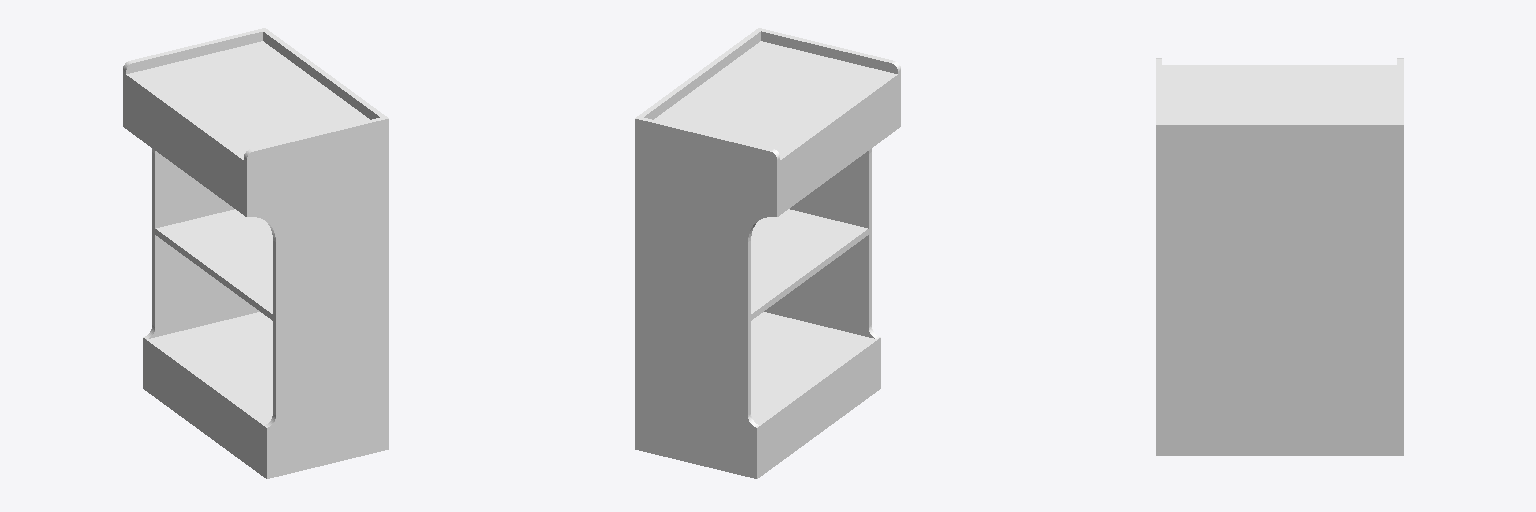
The model's file is lectern.obj.
The picture shows the model from 3 angles: view 1: azimuth 30°, elevation 25°; view 2: azimuth 150°, elevation 25°; view 3: azimuth 270°, elevation 25°; orthographic projection.
Parts seen in each view (by area): view 1: SchoolDesk_001; view 2: SchoolDesk_001; view 3: SchoolDesk_001.
Boxes of the visible parts, <box> form: SchoolDesk_001: <box>123,28,388,478</box>; SchoolDesk_001: <box>635,28,900,478</box>; SchoolDesk_001: <box>1156,58,1403,455</box>.
Size of the model in its own units: 18.33 by 40.72 by 27.61.